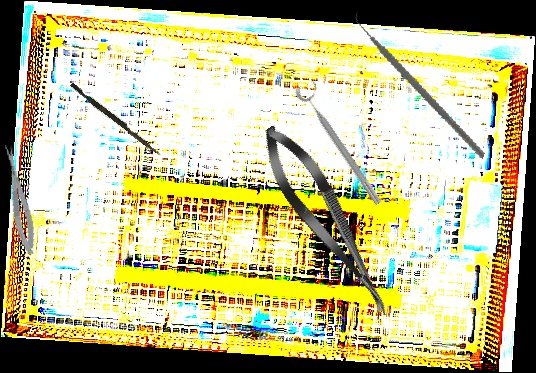Chopper: (328, 4, 514, 159)
Fixation Ring: (293, 77, 392, 209)
Micro Scissor: (249, 116, 405, 327), (0, 142, 40, 257)
Pusher: (68, 82, 164, 157)
